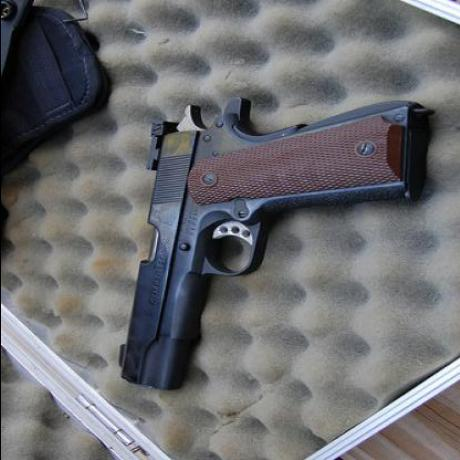weapon: (109, 89, 427, 391)
